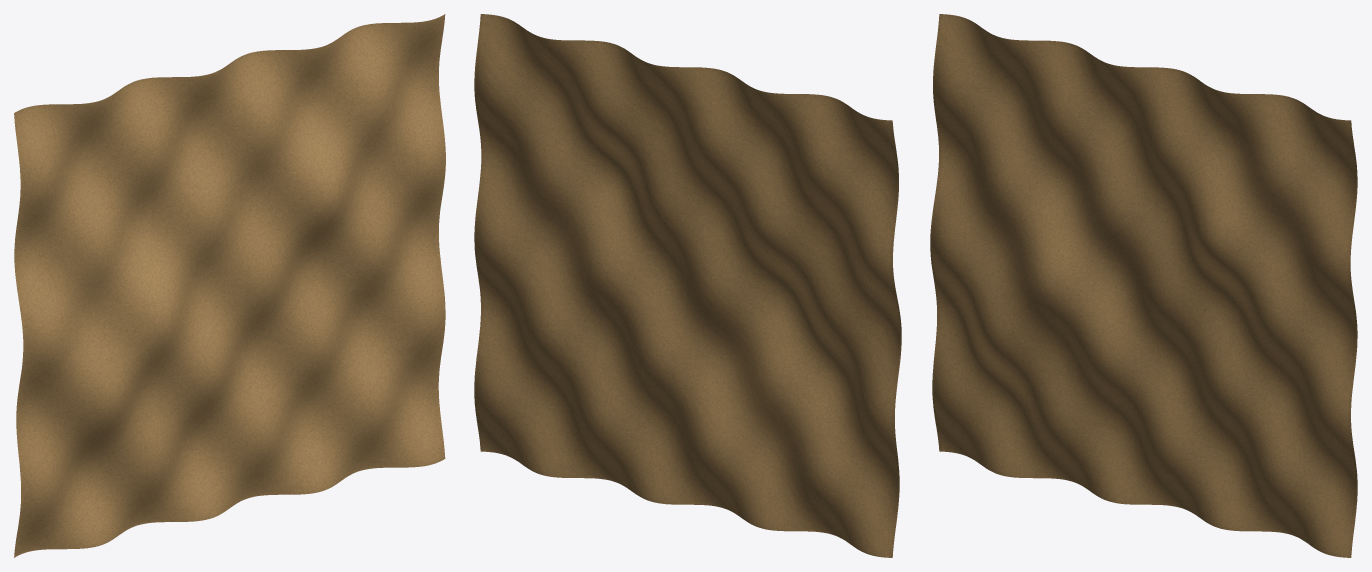
The model's file is seabed.obj.
The picture shows the model from 3 angles, left to right: view 1: azimuth 30°, elevation 25°; view 2: azimuth 150°, elevation 25°; view 3: azimuth 330°, elevation 25°; orthographic projection.
Size of the model in its own units: 100 by 100 by 9.96.
Materials: 1 (1 with a texture image).
